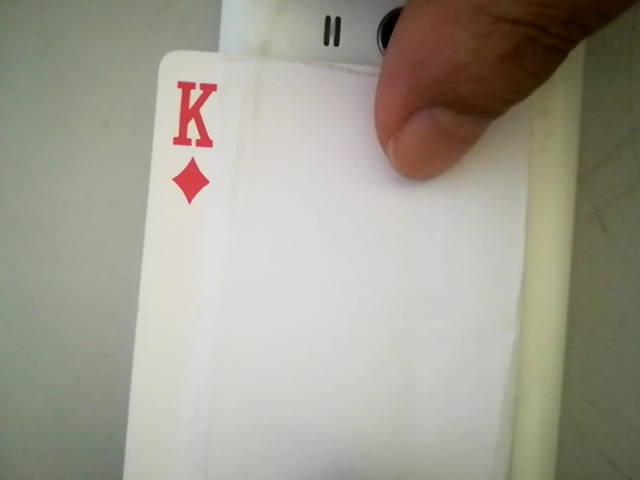fk k: (159, 73, 226, 207)
